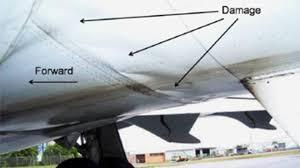Fuselage_damage: (106, 61, 196, 108)
